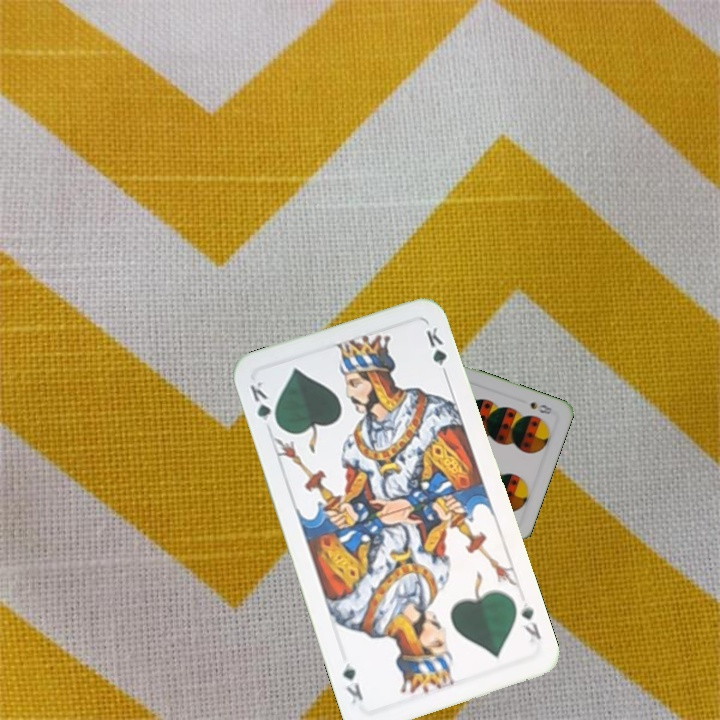GK: (245, 376, 281, 434), (517, 598, 544, 651)
S8: (526, 398, 557, 418)
